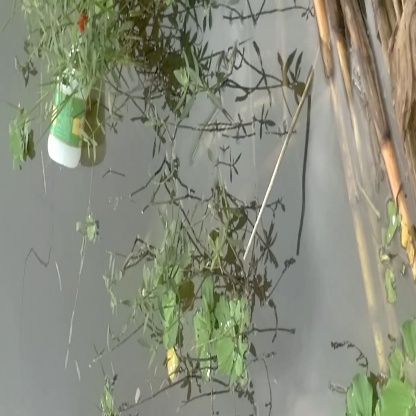bottle: (46, 9, 106, 173)
